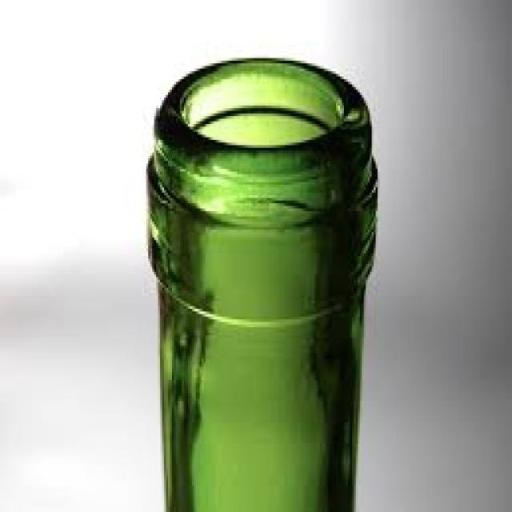glass: (134, 45, 388, 512)
